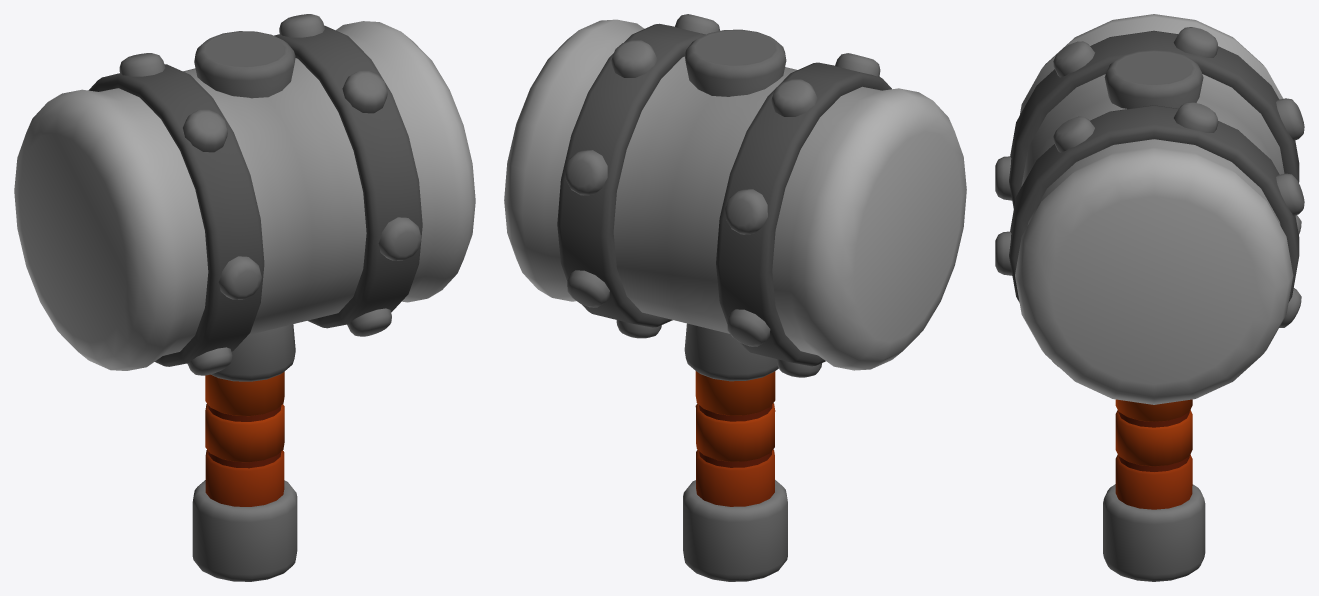
Rendered from Hammer_V1_0.fbx.
The picture shows the model from 3 angles, left to right: view 1: azimuth 30°, elevation 25°; view 2: azimuth 150°, elevation 25°; view 3: azimuth 270°, elevation 25°; orthographic projection. The views are drawn at different scales.
Visible parts, largest first — view 1: Hammer_V1_0; view 2: Hammer_V1_0; view 3: Hammer_V1_0.
Part boxes in pixels (x1,y1,x2,y2): Hammer_V1_0: (14,14,475,581); Hammer_V1_0: (504,14,966,581); Hammer_V1_0: (995,14,1304,581).
Bounding box in the file's own units: 0.3458 × 0.4941 × 0.279.
